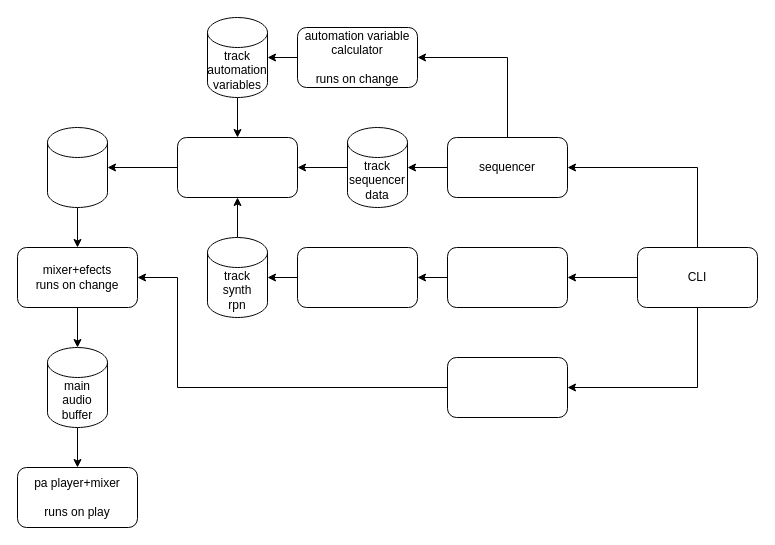
Image size: 775x545. Some labels were removed from this diagram. Here are the shapes that lost their labels. From the top down, the centre of each, then its label:
At [77,167]: "track sound buffer".
At [237,167]: "track calculator runs on change".
At [357,277]: "track synth rpmifier runs on change".
At [507,277]: "track synth editor".
At [507,387]: "mixer".
